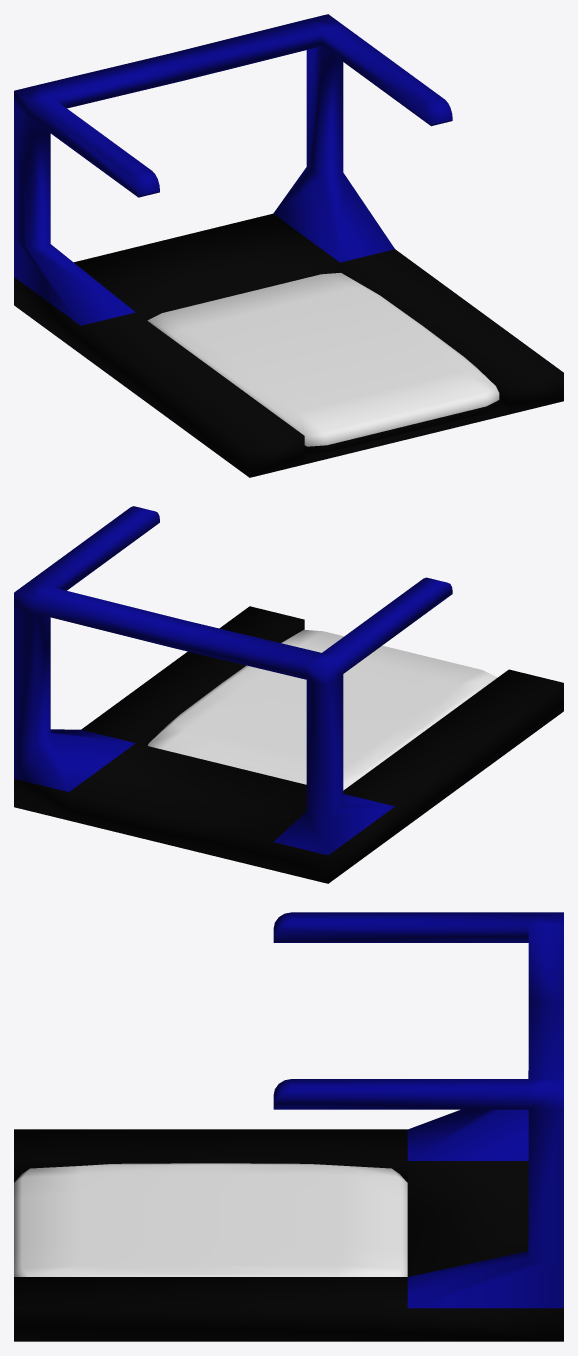
The model's file is Treadmill.glb.
The picture shows the model from 3 angles, top to bottom: view 1: azimuth 30°, elevation 25°; view 2: azimuth 150°, elevation 25°; view 3: azimuth 270°, elevation 25°; orthographic projection. The views are drawn at different scales.
Parts seen in each view (by area): view 1: Treadmill; view 2: Treadmill; view 3: Treadmill.
Boxes of the visible parts, x1,y1,x2,y2 form: Treadmill: [14, 14, 563, 477]; Treadmill: [14, 506, 563, 883]; Treadmill: [14, 912, 563, 1341].
Size of the model in its own units: 2.31 by 1.51 by 3.
